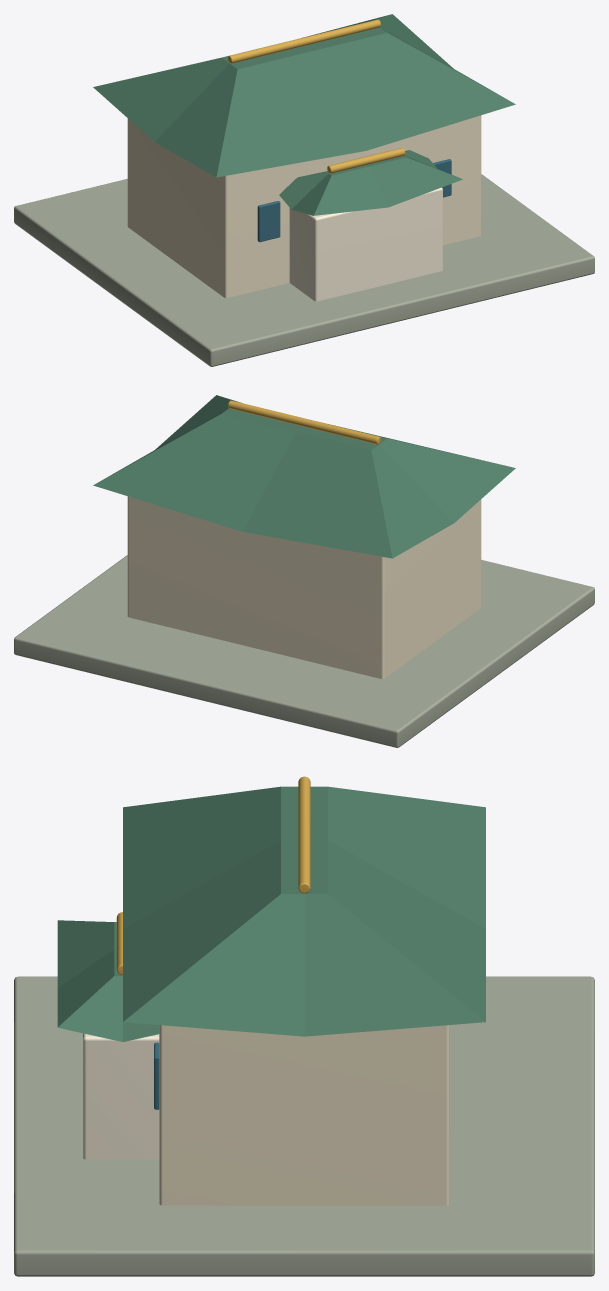
File: meiling-before.glb
The picture shows the model from 3 angles, top to bottom: view 1: azimuth 30°, elevation 25°; view 2: azimuth 150°, elevation 25°; view 3: azimuth 270°, elevation 25°; orthographic projection. The views are drawn at different scales.
Parts seen in each view (by area): view 1: garden platform, green roof, mansion, portico, portico roof, green roof ridge, window, portico roof ridge; view 2: mansion, garden platform, green roof, green roof ridge; view 3: garden platform, green roof, mansion, portico, portico roof, green roof ridge.
Boxes of the visible parts, x1,y1,x2,y2 form: garden platform: (14,174,594,366); green roof: (93,14,515,177); mansion: (127,115,481,297); portico: (289,187,442,301); portico roof: (279,150,462,215); green roof ridge: (228,19,380,63); window: (257,201,280,242); portico roof ridge: (327,148,405,173); mansion: (127,496,481,678); garden platform: (14,555,594,747); green roof: (93,395,515,558); green roof ridge: (228,400,380,444); garden platform: (14,976,594,1276); green roof: (123,786,485,1036); mansion: (159,1025,449,1205); portico: (83,1033,159,1159); portico roof: (57,920,159,1041); green roof ridge: (298,776,310,893).
Size of the model in its own units: 9 by 4.72 by 8.
